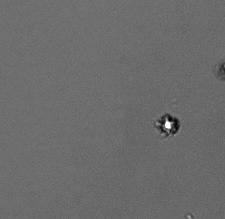Living Cell: (157, 115, 180, 135)
